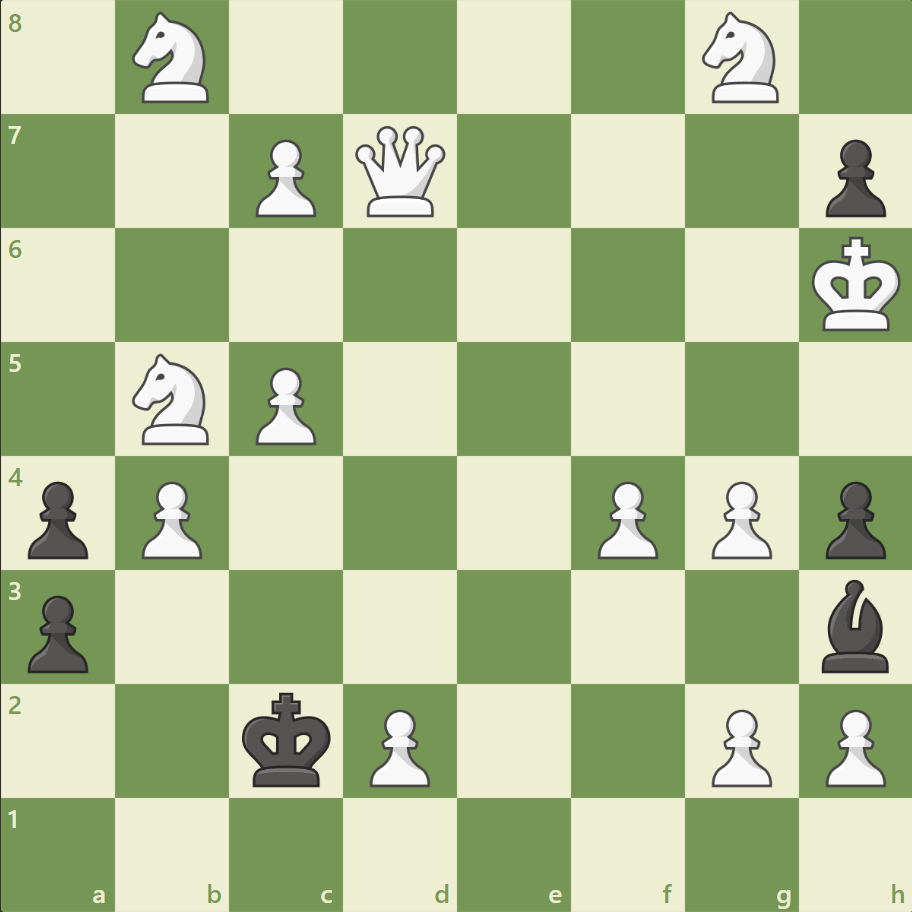K: (806, 231, 906, 339)
N: (124, 7, 222, 110), (124, 348, 222, 450), (692, 7, 789, 110)
P: (247, 132, 322, 223), (247, 359, 322, 450), (133, 473, 208, 564), (701, 473, 776, 564), (701, 700, 776, 791), (588, 473, 662, 564), (361, 700, 435, 791), (815, 700, 889, 791)
Q: (351, 122, 450, 222)
b: (812, 574, 896, 676)
k: (238, 685, 338, 793)
p: (20, 473, 95, 564), (20, 586, 95, 677), (815, 132, 889, 223), (815, 473, 889, 564)
